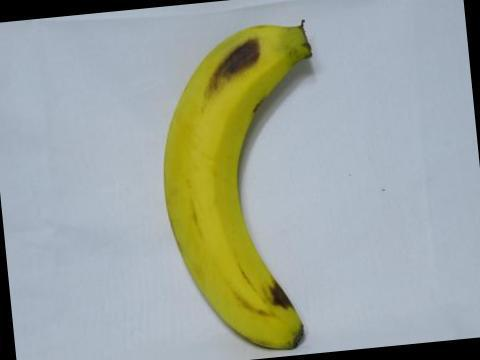freshripe: (150, 7, 337, 358)
